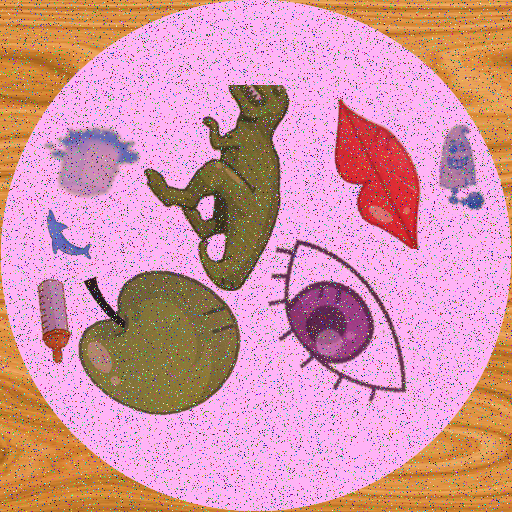apple_icon: (73, 266, 245, 438)
bottle_icon: (10, 277, 97, 364)
cube_icon: (38, 114, 143, 219)
dino_icon: (144, 85, 350, 291)
dolphin_icon: (34, 206, 97, 269)
eye_icon: (245, 226, 436, 417)
ghost_icon: (416, 122, 507, 213)
lips_icon: (311, 97, 463, 249)
